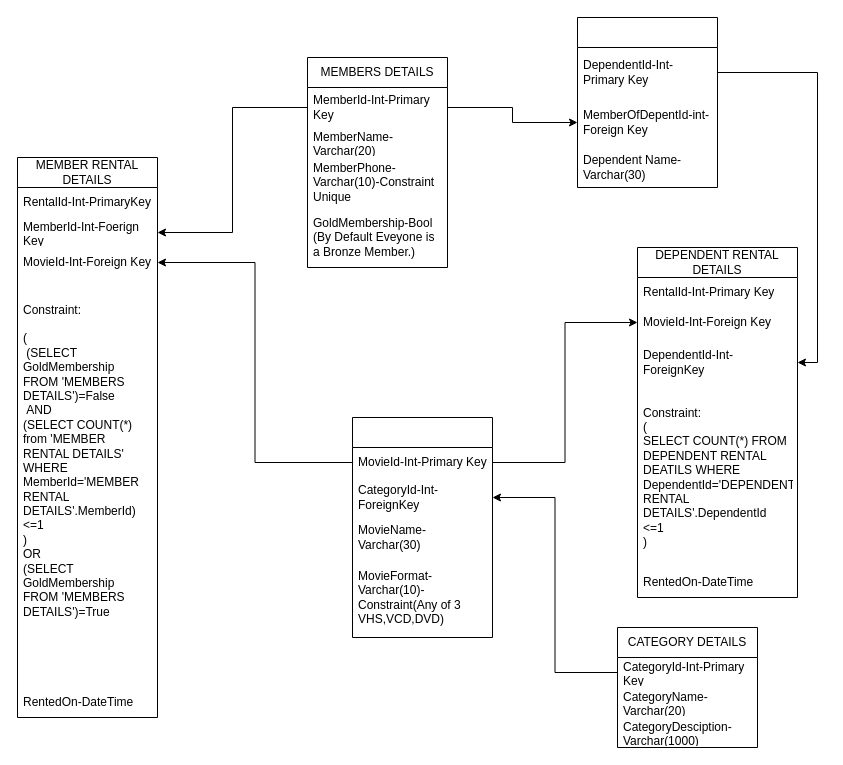
Some shapes in this 843 by 765 pixel diagram are drawn without their labels. Here are the shapes that lost their labels. From the top down, the box of each, then its label:
(576, 16, 718, 188): DEPENDENT DETAILS
(352, 416, 492, 638): MOVIE DETAILS
